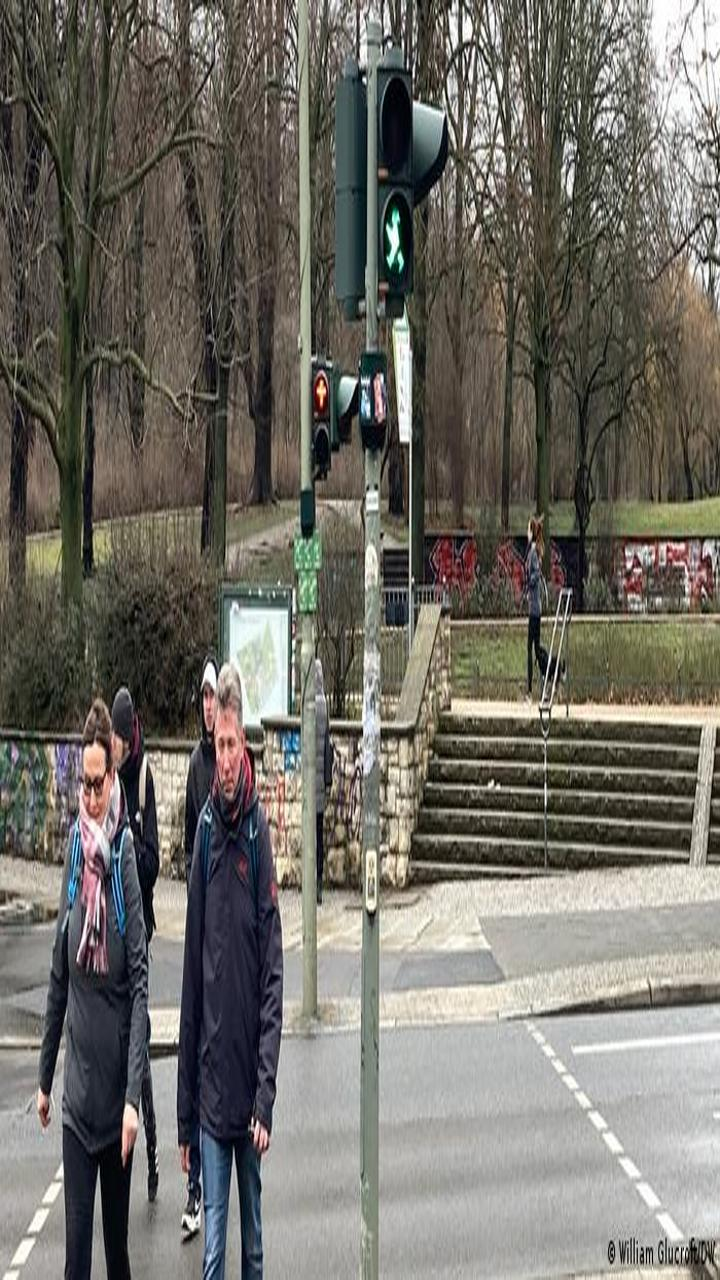Traffic sign: (372, 155, 431, 323), (295, 313, 354, 481)
pedestrian: (166, 669, 294, 1280), (30, 703, 159, 1279), (510, 509, 576, 719)
